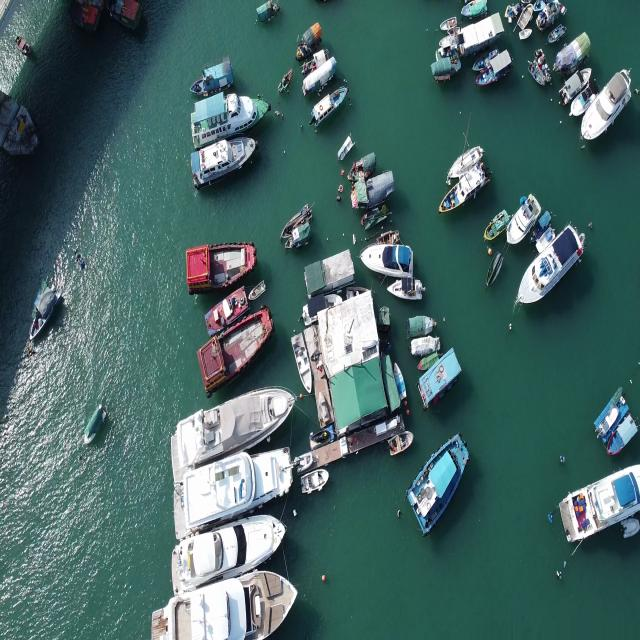ship: (144, 572, 302, 638), (171, 511, 293, 590), (172, 446, 296, 516), (171, 396, 298, 446), (514, 225, 583, 317), (188, 314, 277, 384), (409, 438, 467, 532), (555, 478, 638, 542), (577, 68, 631, 158), (180, 136, 268, 182), (180, 92, 265, 134), (183, 239, 262, 279), (310, 83, 352, 130), (31, 277, 58, 350), (358, 242, 416, 274), (82, 398, 106, 450), (483, 204, 508, 241), (488, 252, 506, 294), (284, 222, 314, 247), (413, 334, 443, 358), (300, 472, 332, 494), (406, 314, 436, 337), (338, 132, 357, 164), (389, 429, 409, 458), (395, 362, 408, 403), (276, 65, 293, 96), (518, 24, 532, 40)
